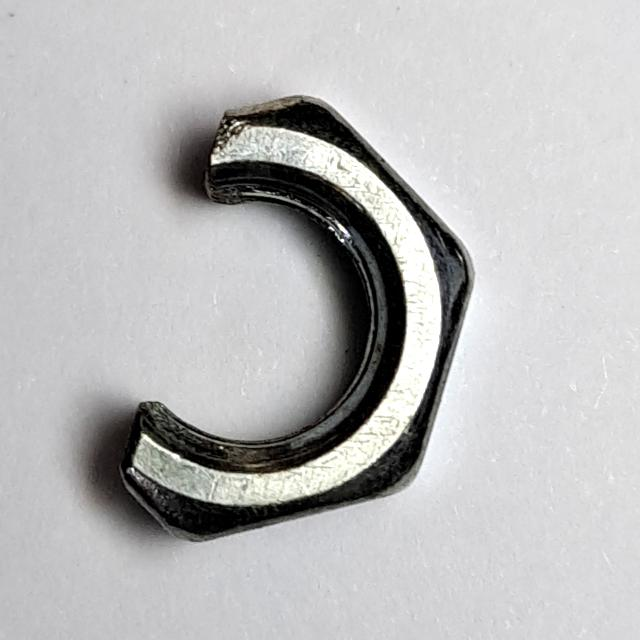Fracture: (102, 83, 486, 556)
